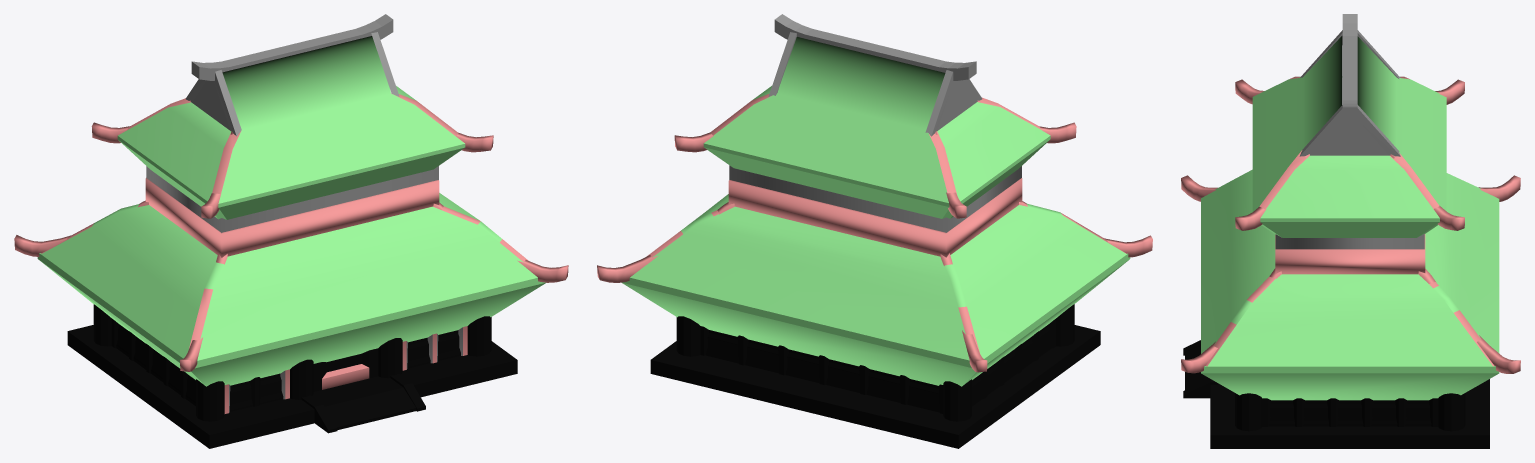
File: COL_SM_ENV_KNVLLG03_AreaC_BuildingA.gltf
3 views of the same model, side by side, from view 1: azimuth 30°, elevation 25°; view 2: azimuth 150°, elevation 25°; view 3: azimuth 270°, elevation 25° (orthographic).
Parts seen in each view (by area): view 1: COL_SM_ENV_KNVLLG03_AreaC_BuildingA; view 2: COL_SM_ENV_KNVLLG03_AreaC_BuildingA; view 3: COL_SM_ENV_KNVLLG03_AreaC_BuildingA.
Boxes of the visible parts, bbox=[...] form: COL_SM_ENV_KNVLLG03_AreaC_BuildingA: bbox=[14, 14, 568, 448]; COL_SM_ENV_KNVLLG03_AreaC_BuildingA: bbox=[597, 14, 1152, 448]; COL_SM_ENV_KNVLLG03_AreaC_BuildingA: bbox=[1181, 14, 1520, 448].
Bounding box in the file's own units: 21.08 × 16.47 × 16.14.
